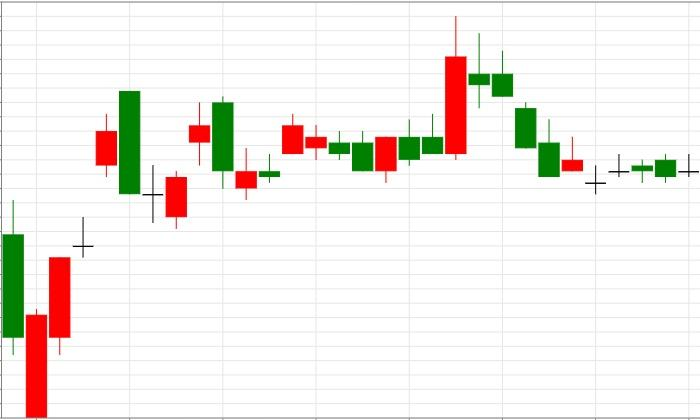bearish_engulfing_fall: (25, 90, 141, 418), (141, 96, 234, 229)
